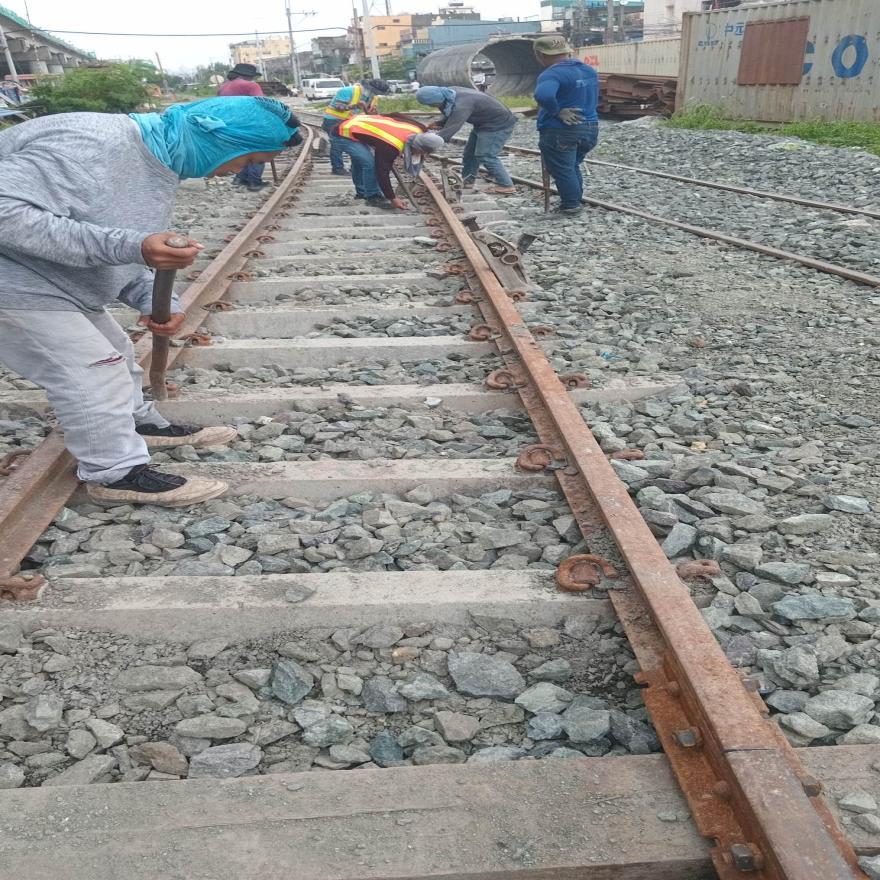railway-gap: (695, 714, 812, 787)
